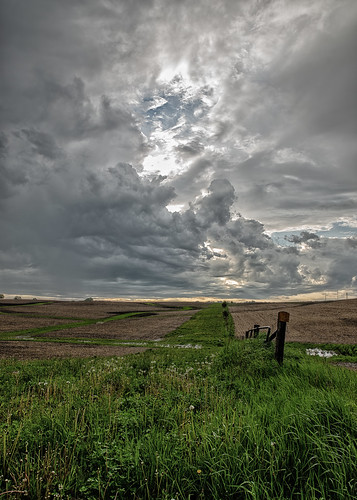grass: (1, 346, 357, 500)
sky: (1, 1, 354, 293)
